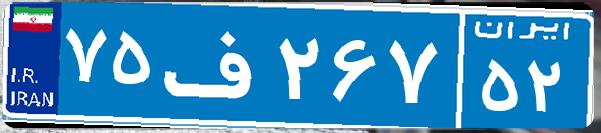2: (273, 28, 330, 110), (525, 38, 570, 115)
5: (475, 38, 525, 113), (110, 28, 158, 105)
6: (330, 28, 385, 110)
7: (385, 28, 445, 110), (57, 26, 110, 107)
ف: (158, 15, 273, 115)
